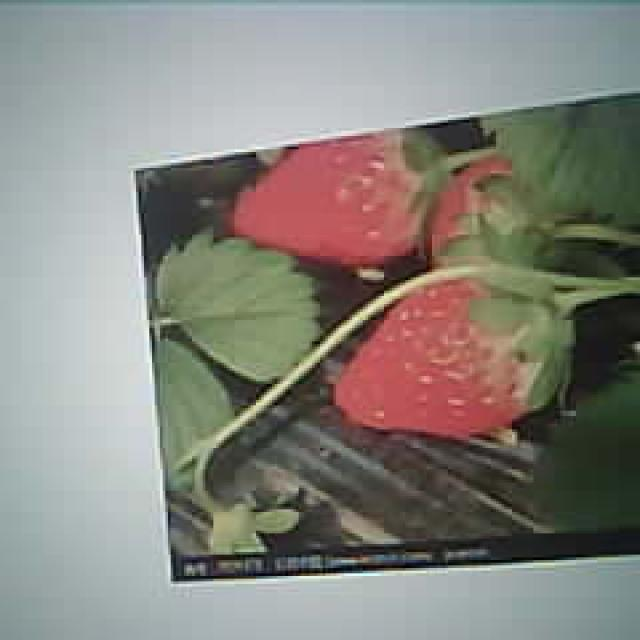strawberry: (336, 281, 547, 431), (231, 130, 426, 265)
